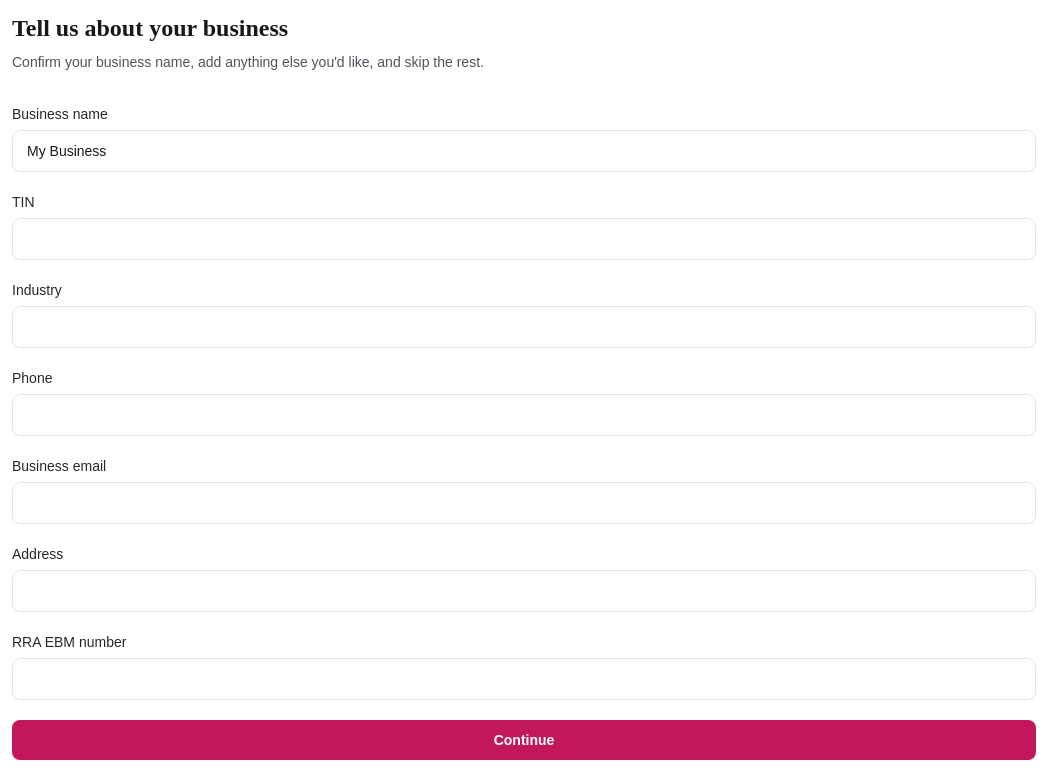
Test: DetailsStep › shows an error banner and does not advance when the save fails
The width and height of the screenshot is (1048, 780).
Type "123456789" into the field labelled "TIN" at (524, 239), box [12,218,1036,260]
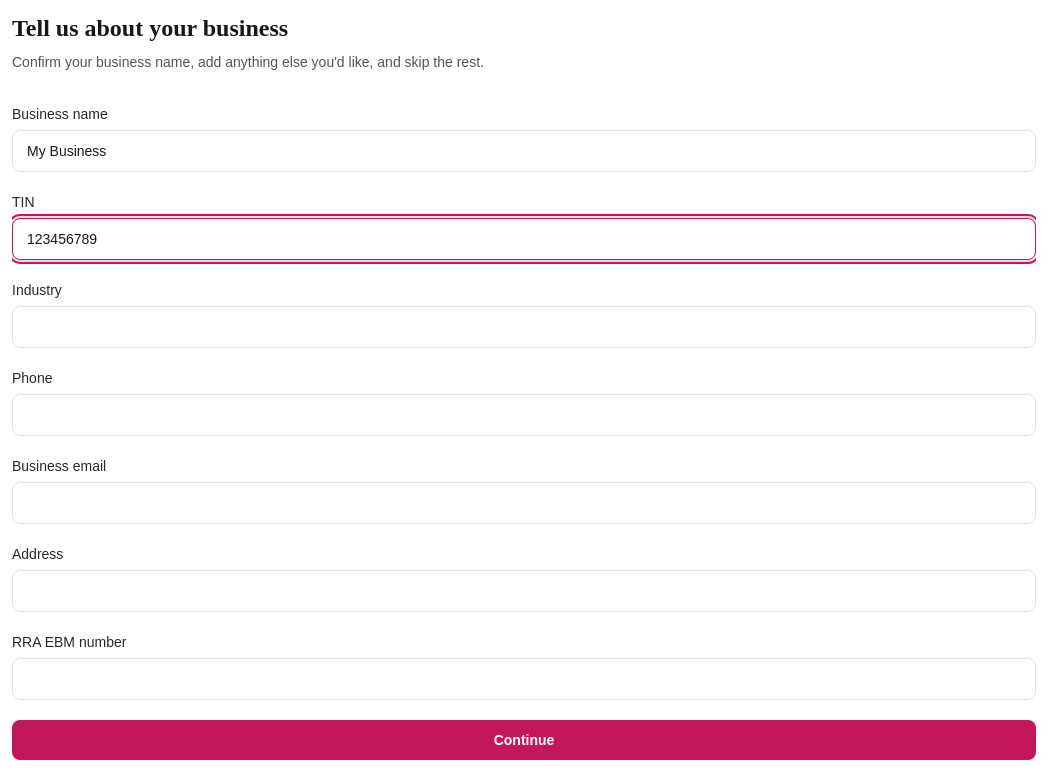
Click the button "Continue" at (524, 740), box [12,720,1036,760]
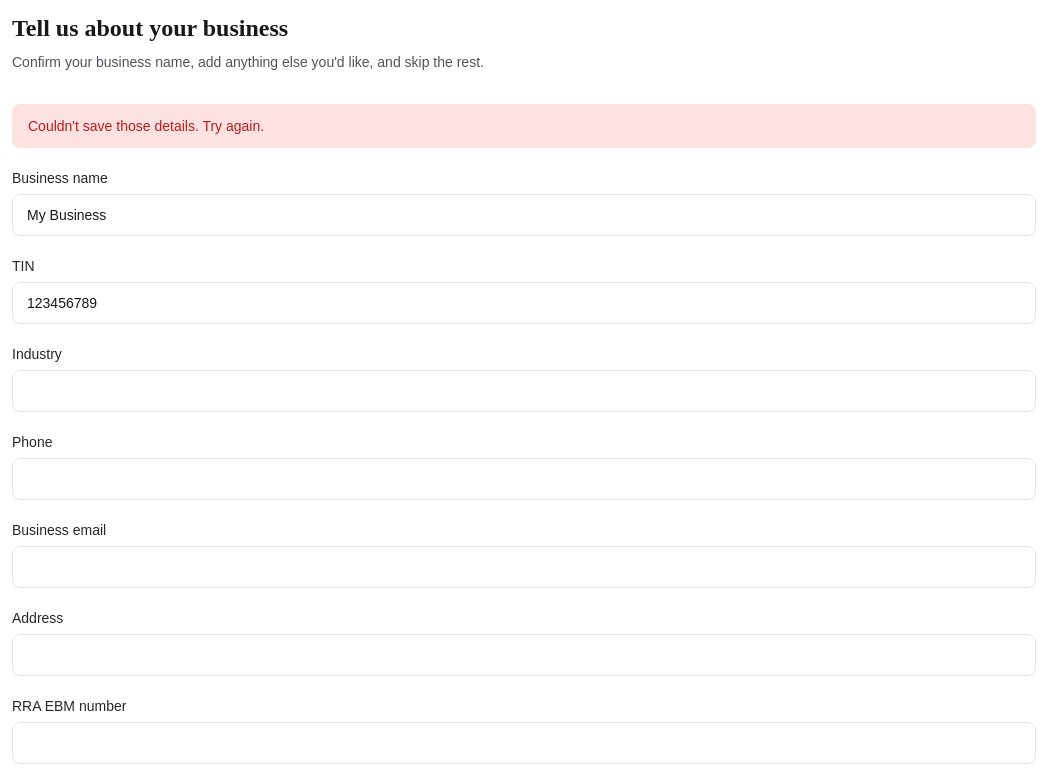
Check: the text "Couldn't save those details. Try again." is shown, box [12,104,1036,148]
